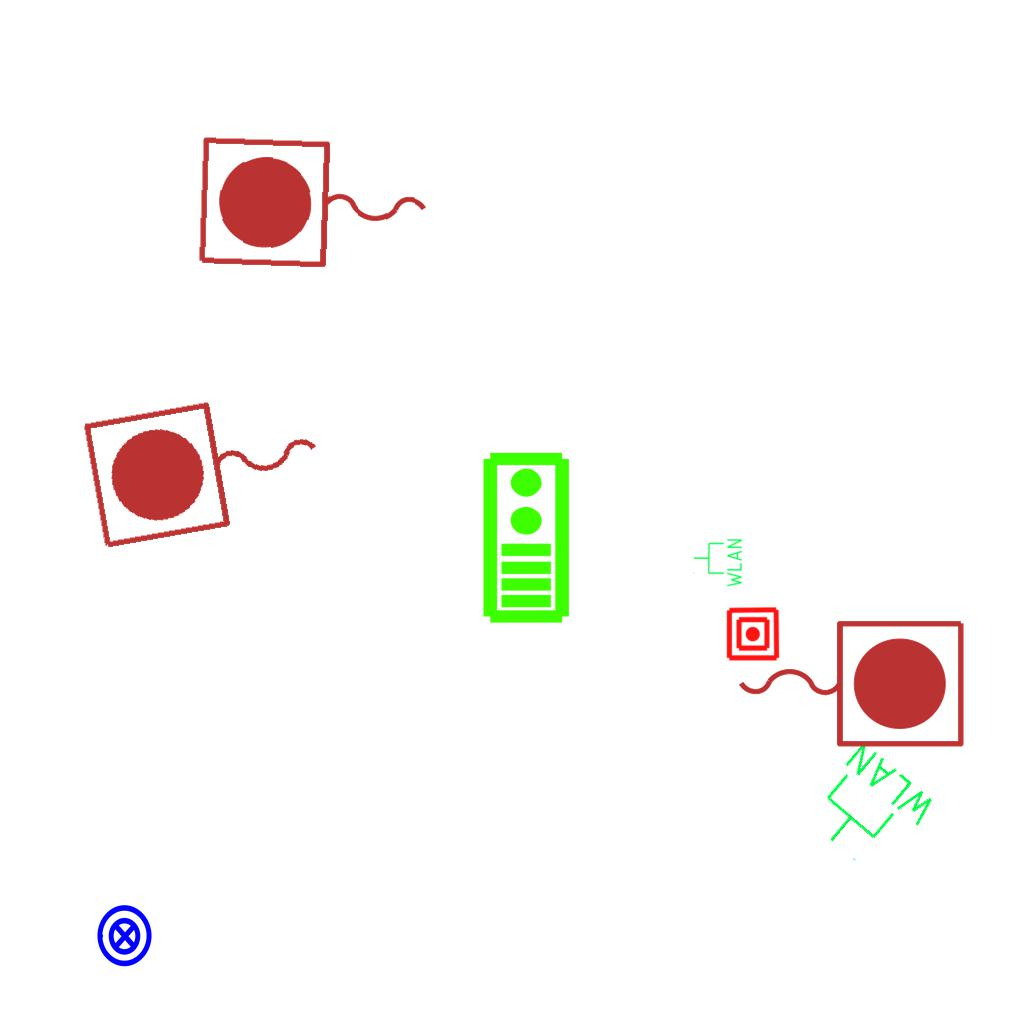Gegensprechanlage_mit_Video: (477, 449, 572, 625)
NAM-Nichtautomatischer_Melder: (725, 606, 781, 662)
Taster_beleuchtet: (92, 903, 158, 969)
WLAN: (796, 735, 944, 884), (692, 537, 744, 589)
Zugtaster: (74, 375, 340, 561), (190, 129, 440, 283), (728, 610, 972, 754)
